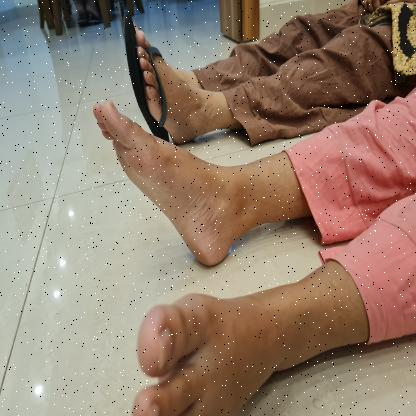leg: (120, 260, 360, 416), (90, 96, 284, 272), (118, 8, 233, 150)
